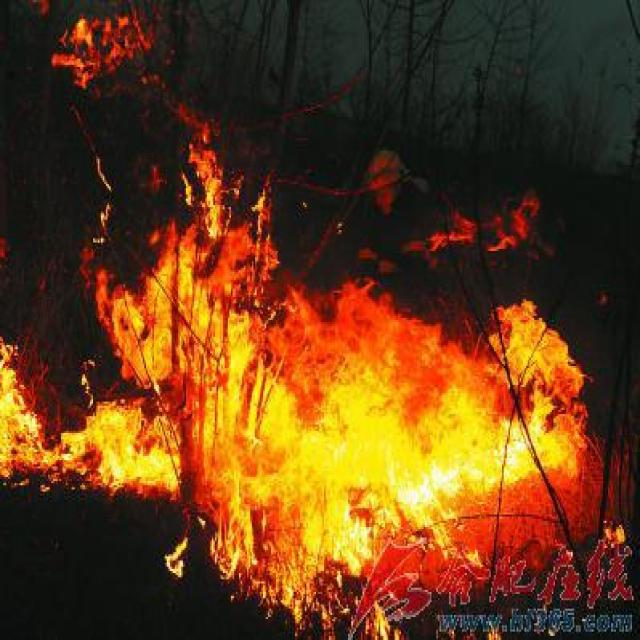fire: (14, 136, 606, 628), (46, 14, 142, 91)
other: (350, 519, 629, 620)
